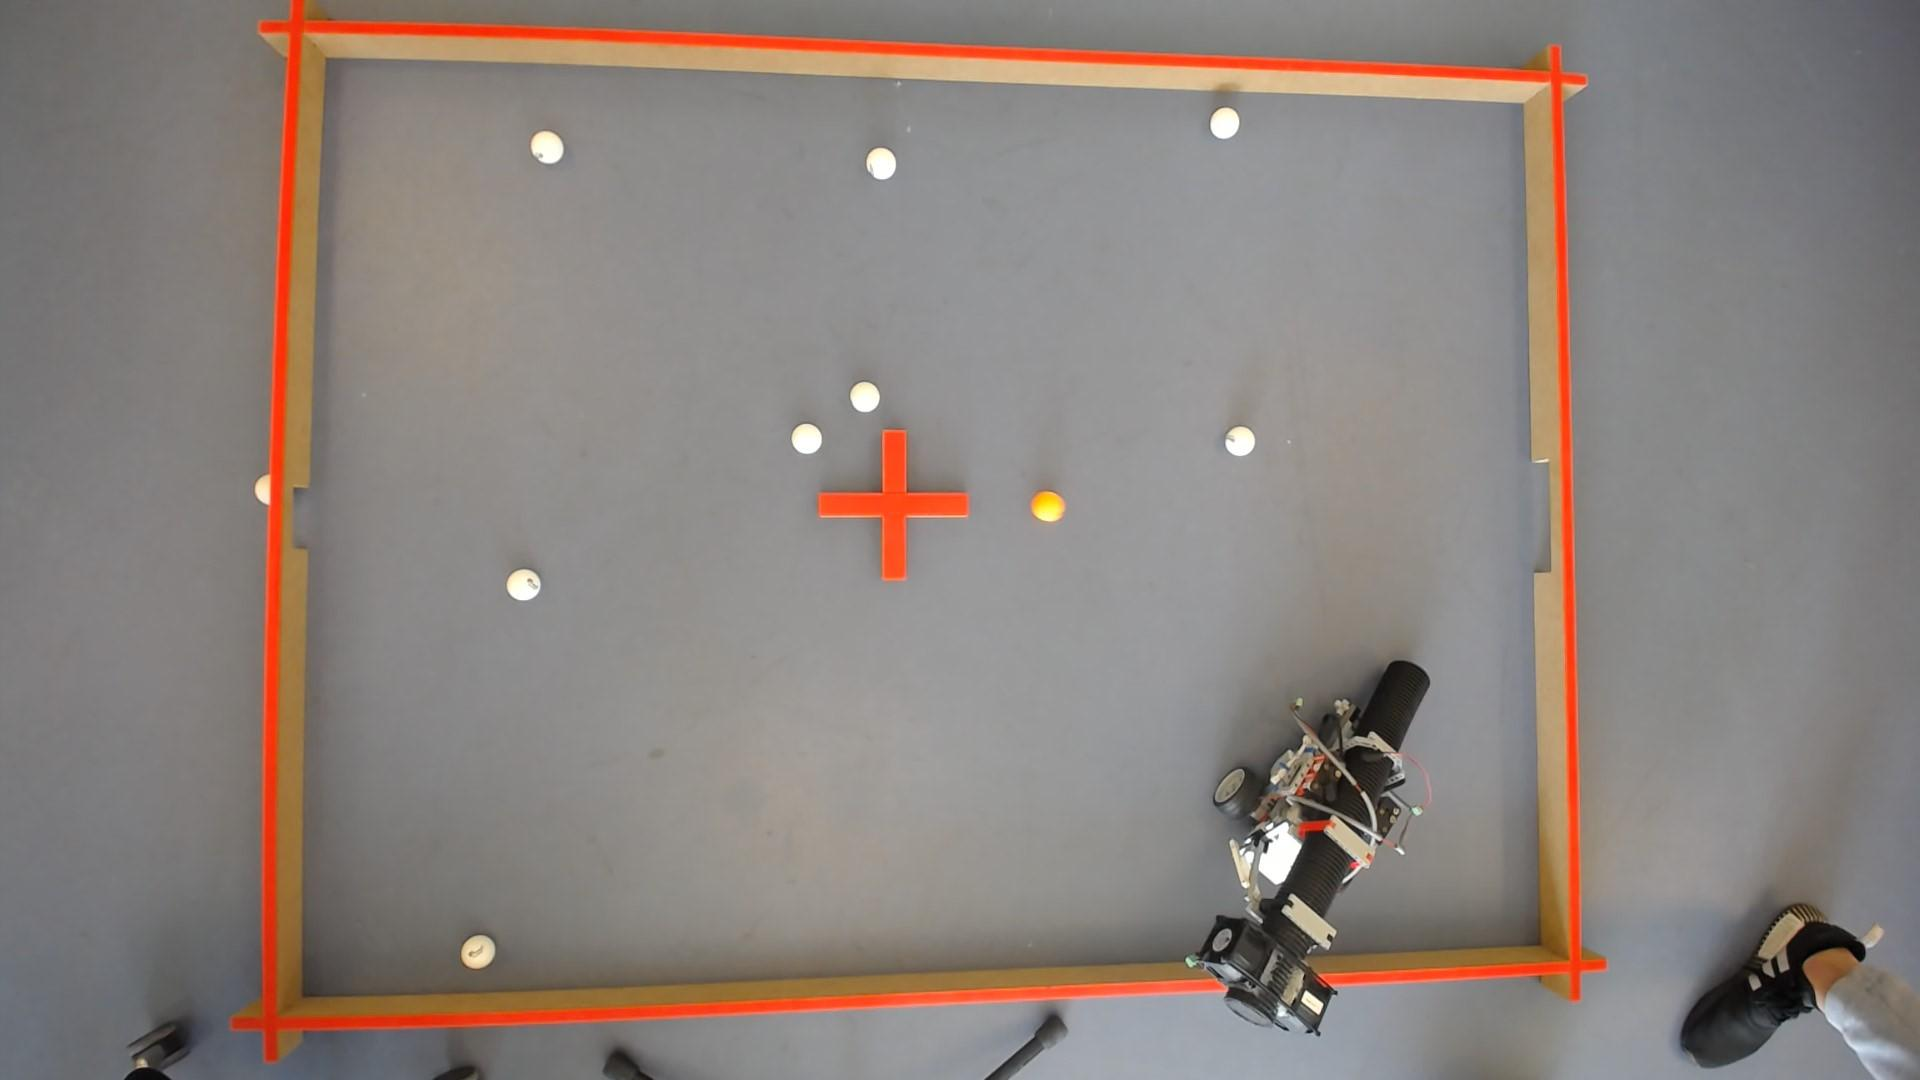orange: (1033, 491, 1065, 521)
robot: (1188, 661, 1432, 1034)
white: (459, 935, 495, 969), (505, 567, 541, 600), (530, 128, 562, 161), (1211, 104, 1241, 137), (866, 145, 897, 177), (1226, 425, 1257, 455), (851, 380, 880, 410), (793, 422, 822, 452)
